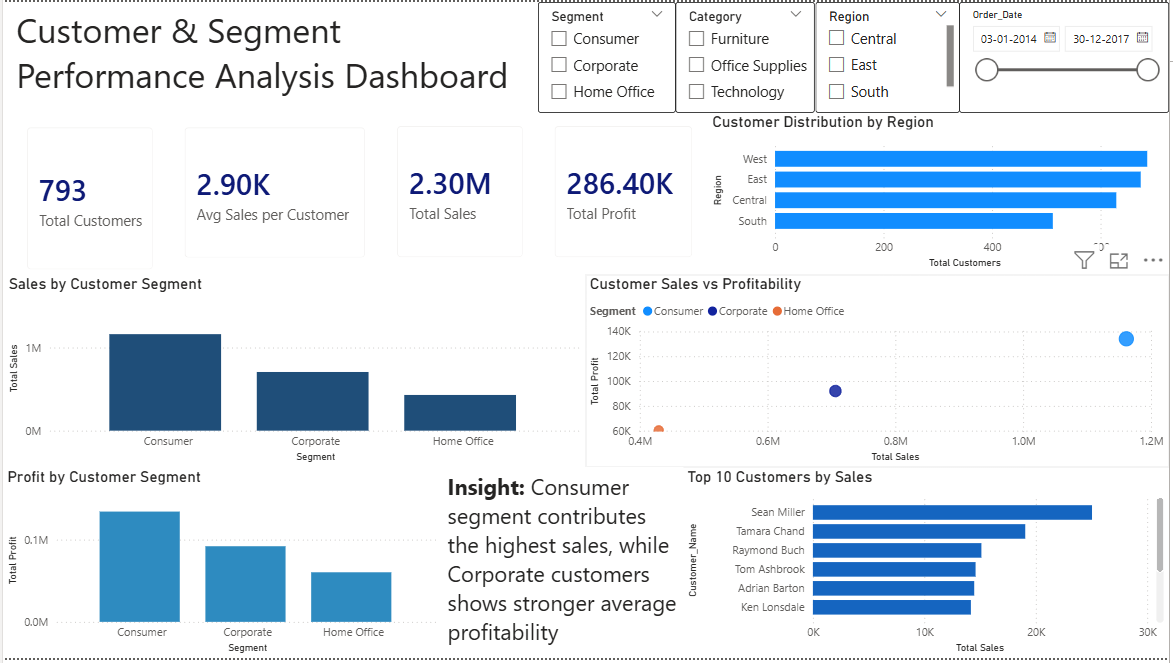

This screenshot's page, from the dashboard's own definition file:
{"tool":"powerbi","page":{"name":"Page 3","canvas":[1280,720],"ordinal":2},"visuals":[{"type":"textbox","box":[10,0,577.1,121.4],"z":0},{"type":"cardVisual","fields":{"Data":["cleaned_superstore_data.Total Customers"]},"box":[10,121.4,172.9,190],"z":1000},{"type":"cardVisual","fields":{"Data":["cleaned_superstore_data.Total Sales"]},"box":[415.7,120,172.9,178.6],"z":2000},{"type":"cardVisual","fields":{"Data":["cleaned_superstore_data.Total Profit"]},"box":[588.6,120,185.7,178.6],"z":3000},{"type":"cardVisual","fields":{"Data":["cleaned_superstore_data.Avg Sales per Customer"]},"box":[182.9,121.4,232.9,177.1],"z":4000},{"type":"clusteredColumnChart","title":"Sales by Customer Segment","fields":{"Category":["cleaned_superstore_data.Segment"],"Y":["cleaned_superstore_data.Total Sales"]},"box":[1.4,298.6,638.6,211.4],"z":5000},{"type":"clusteredColumnChart","title":"Profit by Customer Segment","fields":{"Y":["cleaned_superstore_data.Total Profit"],"Category":["cleaned_superstore_data.Segment"]},"box":[0,510,482.9,210],"z":6000},{"type":"clusteredBarChart","title":"Customer Distribution by Region","fields":{"Category":["cleaned_superstore_data.Region"],"Y":["cleaned_superstore_data.Total Customers"]},"box":[774.3,121.4,505.7,177.1],"z":7000},{"type":"clusteredBarChart","title":"Top 10 Customers by Sales","fields":{"Y":["cleaned_superstore_data.Total Sales"],"Category":["cleaned_superstore_data.Customer_Name"]},"box":[747.1,510,532.9,210],"z":8000},{"type":"scatterChart","title":"Customer Sales vs Profitability","fields":{"X":["cleaned_superstore_data.Total Sales"],"Y":["cleaned_superstore_data.Total Profit"],"Series":["cleaned_superstore_data.Segment"],"Size":["cleaned_superstore_data.Total Sales"]},"box":[640,298.6,640,211.4],"z":9000},{"type":"slicer","fields":{"Values":["cleaned_superstore_data.Category"]},"box":[738.6,0,152.9,121.4],"z":10000},{"type":"slicer","fields":{"Values":["cleaned_superstore_data.Order_Date"]},"box":[1050,0,230,121.4],"z":11000},{"type":"textbox","box":[482.9,510,264.3,210],"z":12000},{"type":"slicer","fields":{"Values":["cleaned_superstore_data.Segment"]},"box":[587.1,0,151.4,121.4],"z":13000},{"type":"slicer","fields":{"Values":["cleaned_superstore_data.Region"]},"box":[891.4,0,158.6,121.4],"z":14000}]}

Visuals, with their boxes in screenshot pixels (x1, y1, x2, y2), scaled from the page's 1280x720 canvas onto the 1173x663 screenshot:
textbox: box(9, 0, 538, 112)
cardVisual - cleaned_superstore_data.Total Customers: box(9, 112, 168, 287)
cardVisual - cleaned_superstore_data.Total Sales: box(381, 110, 539, 275)
cardVisual - cleaned_superstore_data.Total Profit: box(539, 110, 710, 275)
cardVisual - cleaned_superstore_data.Avg Sales per Customer: box(168, 112, 381, 275)
"Sales by Customer Segment" clusteredColumnChart: box(1, 275, 586, 470)
"Profit by Customer Segment" clusteredColumnChart: box(0, 470, 443, 662)
"Customer Distribution by Region" clusteredBarChart: box(710, 112, 1172, 275)
"Top 10 Customers by Sales" clusteredBarChart: box(685, 470, 1172, 662)
"Customer Sales vs Profitability" scatterChart: box(586, 275, 1172, 470)
slicer - cleaned_superstore_data.Category: box(677, 0, 817, 112)
slicer - cleaned_superstore_data.Order_Date: box(962, 0, 1172, 112)
textbox: box(443, 470, 685, 662)
slicer - cleaned_superstore_data.Segment: box(538, 0, 677, 112)
slicer - cleaned_superstore_data.Region: box(817, 0, 962, 112)
